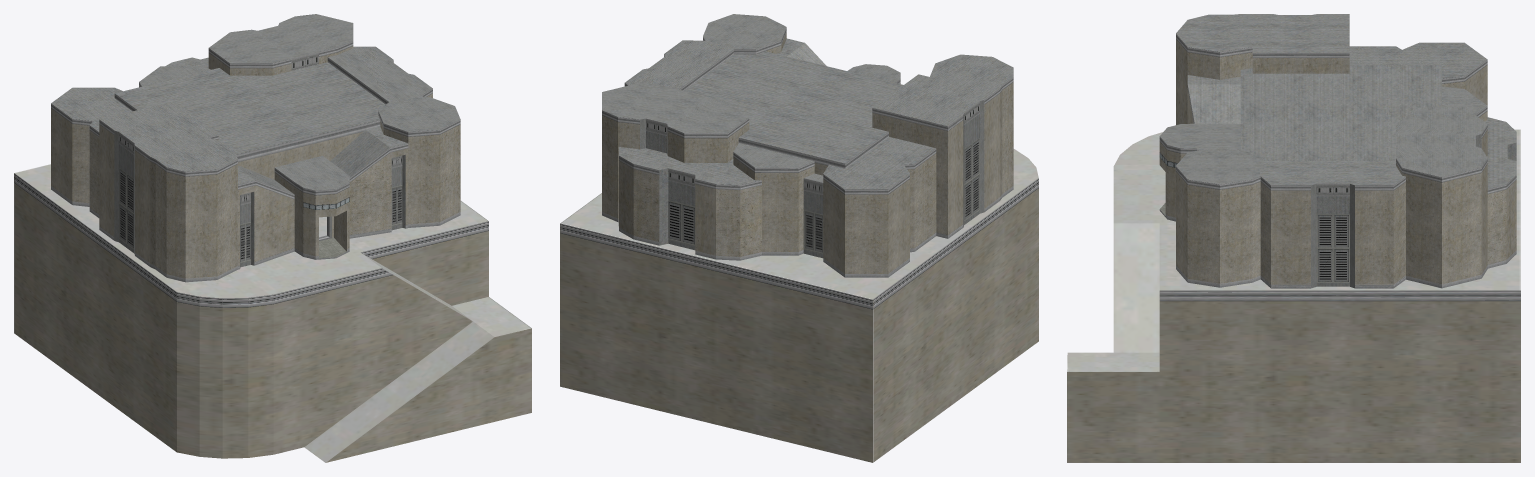
The model's file is ply_all_house_lg_s01_fp1_r0_mesh_l2.fbx.
3 renders of one model, left to right at view 1: azimuth 30°, elevation 25°; view 2: azimuth 150°, elevation 25°; view 3: azimuth 270°, elevation 25°, orthographic. The views are drawn at different scales.
Visible parts, largest first — view 1: mesh_node; view 2: mesh_node; view 3: mesh_node.
Part boxes in pixels (<box>): mesh_node: <box>14,14,531,462</box>; mesh_node: <box>560,14,1038,462</box>; mesh_node: <box>1067,14,1520,462</box>.
Bounding box in the file's own units: 33.08 × 27.88 × 39.4.
